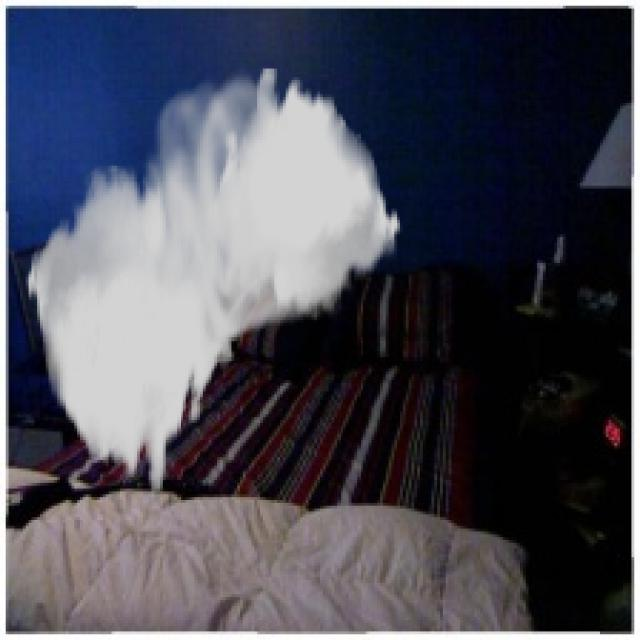smoke: (26, 66, 403, 491)
